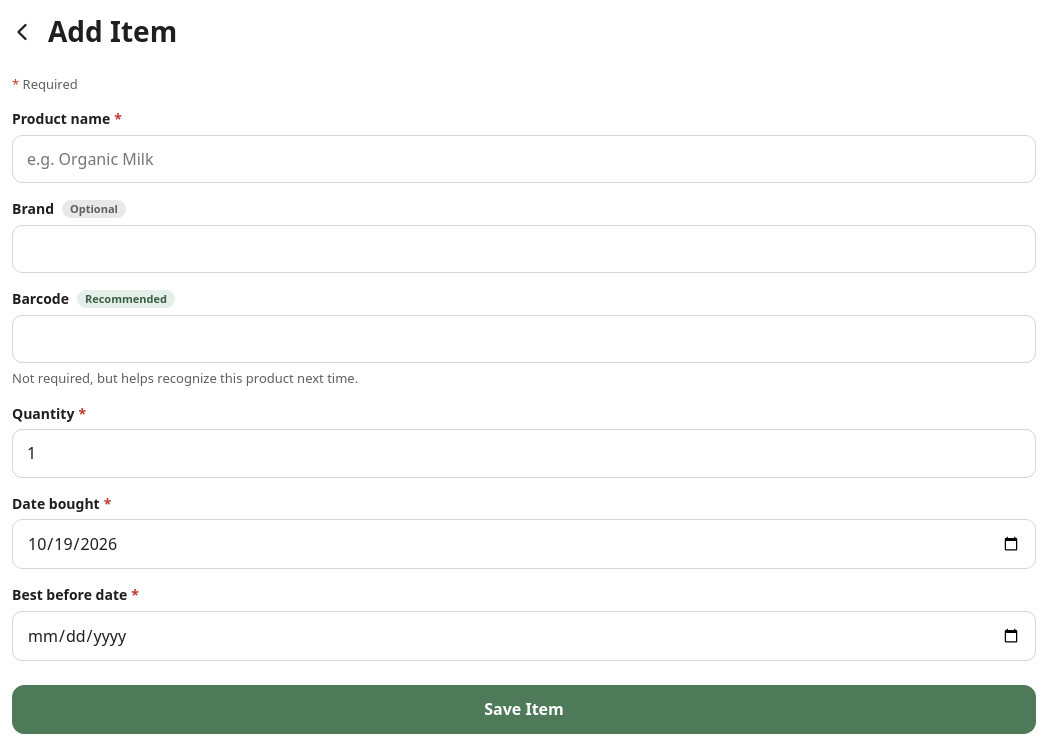
Test case: AddItemPage › rejects a quantity below 1
Replace the text in the number field labelled "Quantity *" with "0": point(524, 453) [12,429,1036,478]
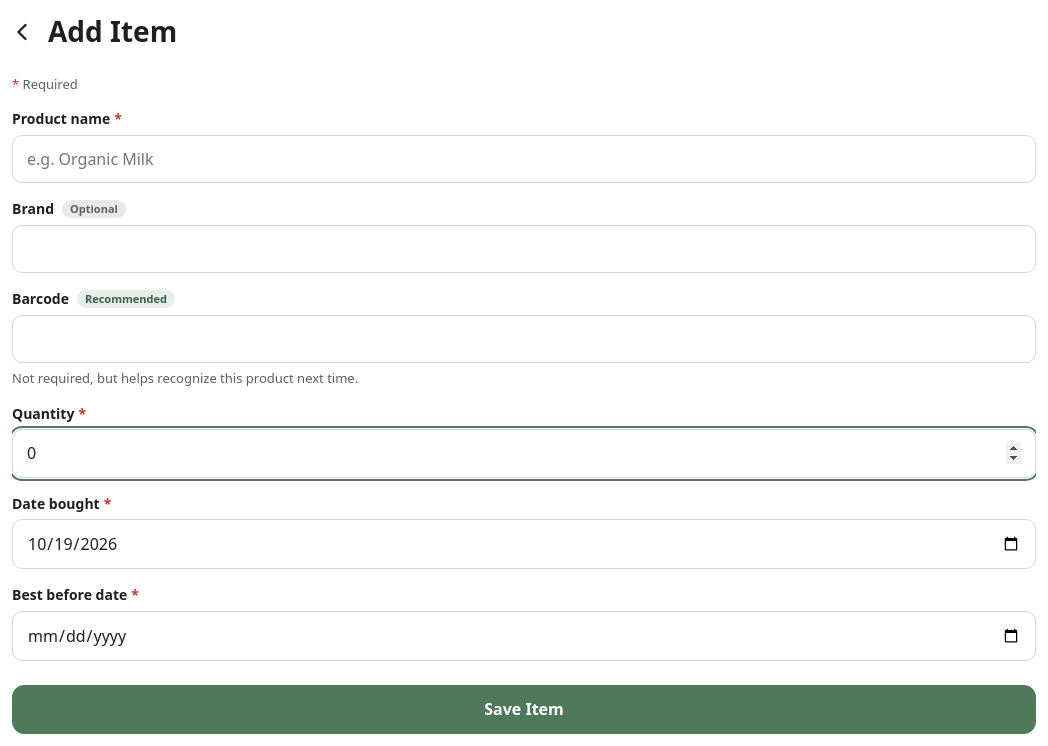
Click the button "Save Item": point(524, 710) [12,686,1036,734]
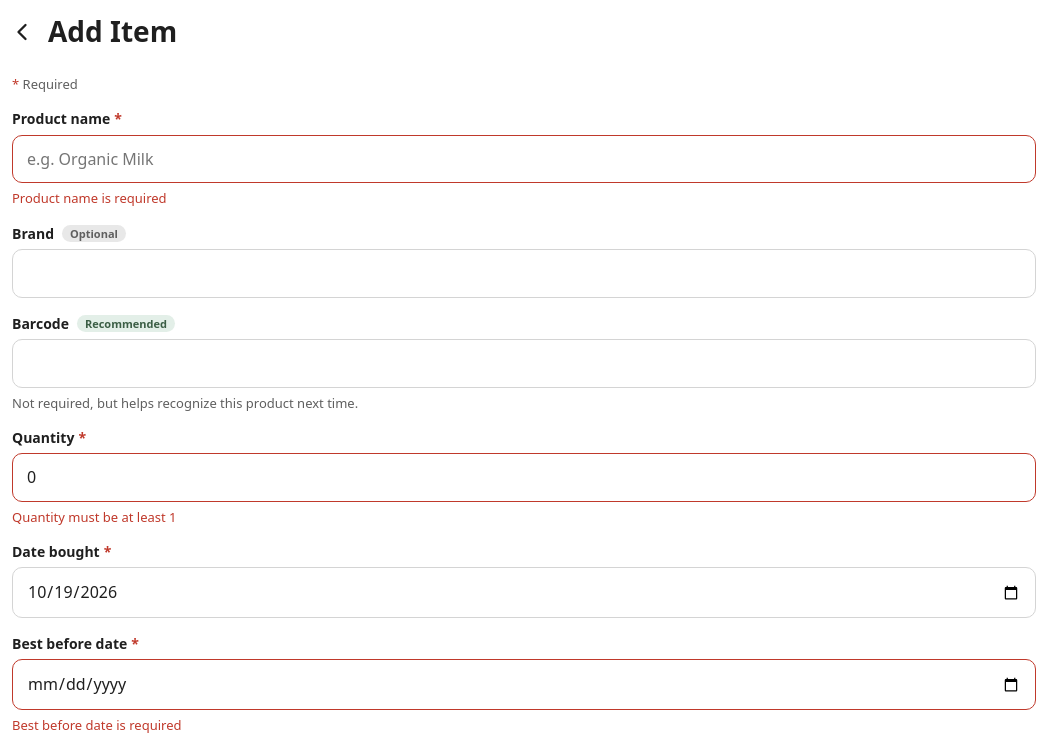
expect the text "Quantity must be at least 1" is shown: met, box [12,508,176,526]
